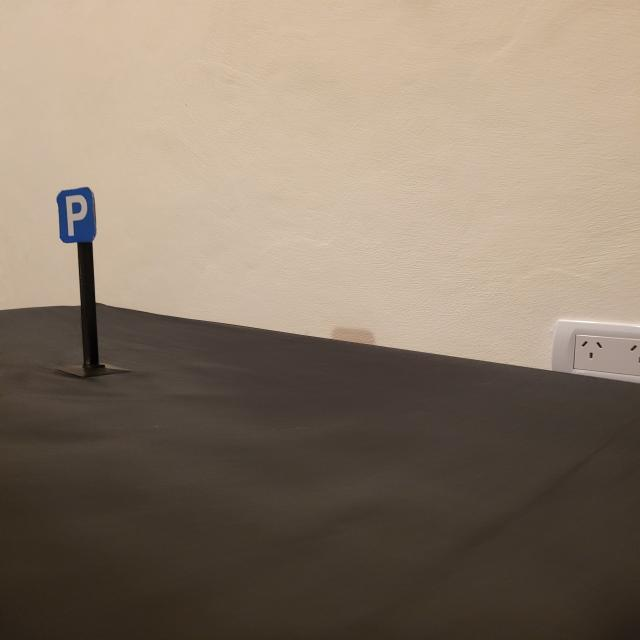parking: (56, 186, 97, 244)
